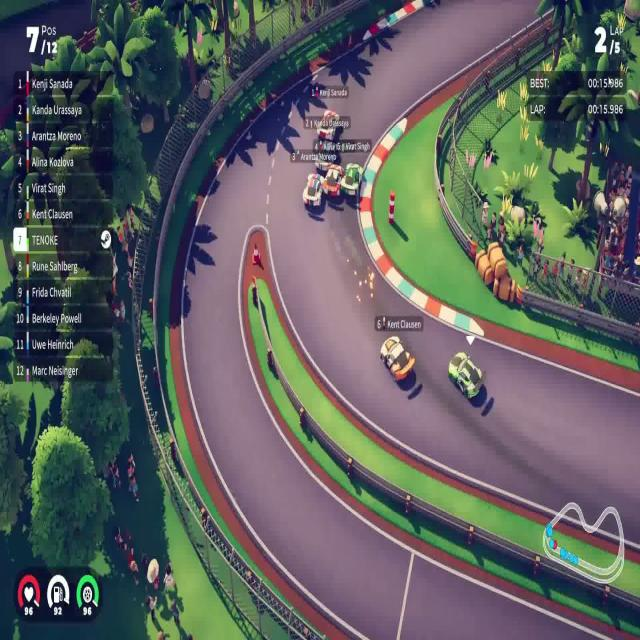car: (447, 350, 483, 401), (379, 334, 415, 383), (340, 162, 363, 201), (302, 172, 323, 211), (322, 163, 344, 200), (317, 102, 338, 140)
